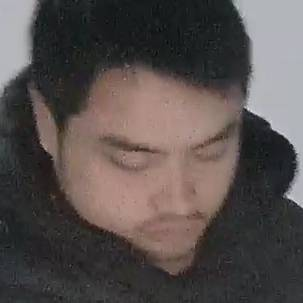mg: (25, 15, 261, 251)
